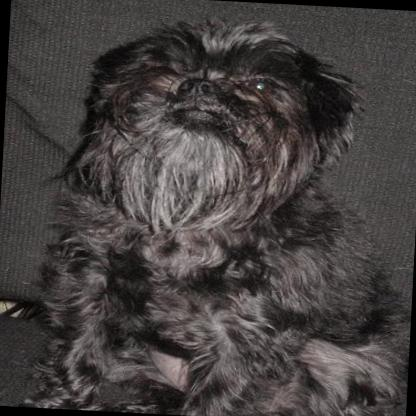affenpinscher: (25, 5, 416, 416)
